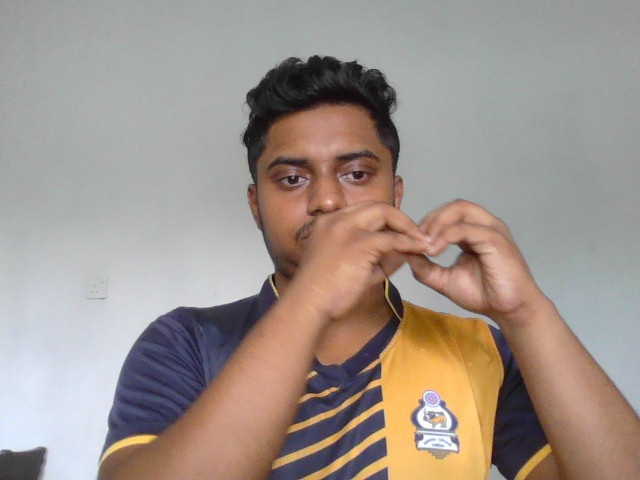More: (297, 198, 536, 325)
